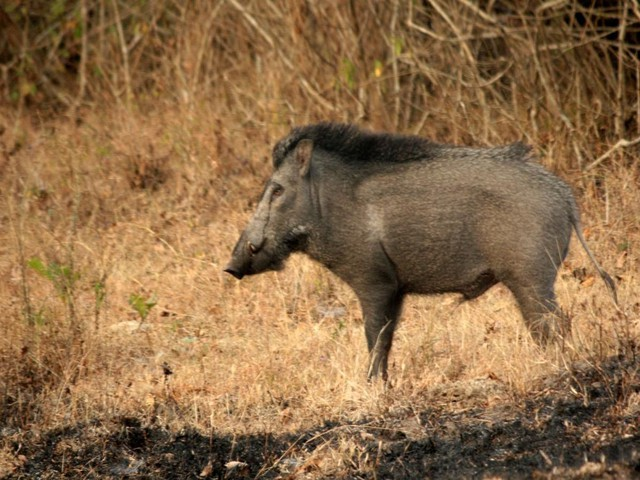Pig: (224, 120, 612, 359)
